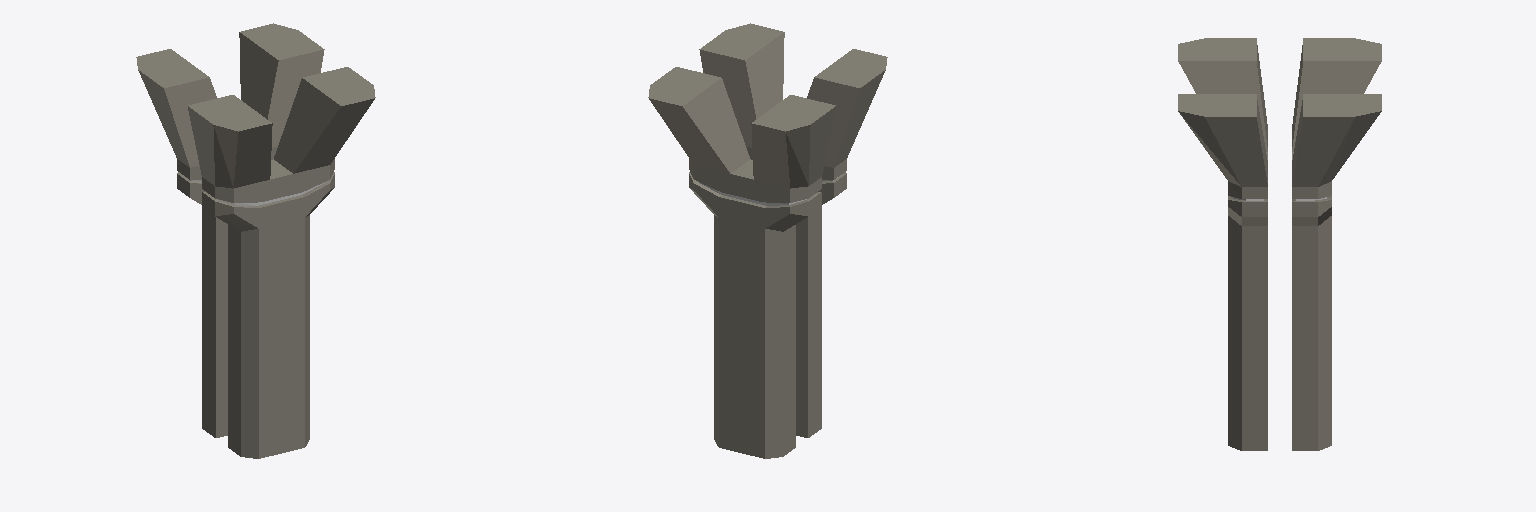
File: bridgeA2.obj
3 renders of one model, left to right at view 1: azimuth 30°, elevation 25°; view 2: azimuth 150°, elevation 25°; view 3: azimuth 270°, elevation 25°, orthographic.
Parts seen in each view (by area): view 1: Cube.020_Cube.034; view 2: Cube.020_Cube.034; view 3: Cube.020_Cube.034.
Boxes of the visible parts, <box> form: Cube.020_Cube.034: <box>136,23,375,458</box>; Cube.020_Cube.034: <box>648,23,887,458</box>; Cube.020_Cube.034: <box>1178,38,1381,450</box>.
Bounding box in the file's own units: 6.95 × 14.77 × 7.65.